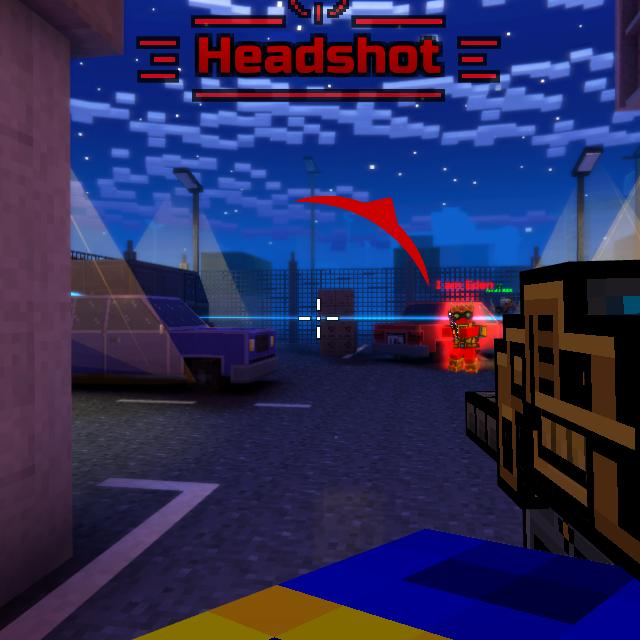Enemy: (442, 305, 487, 374)
